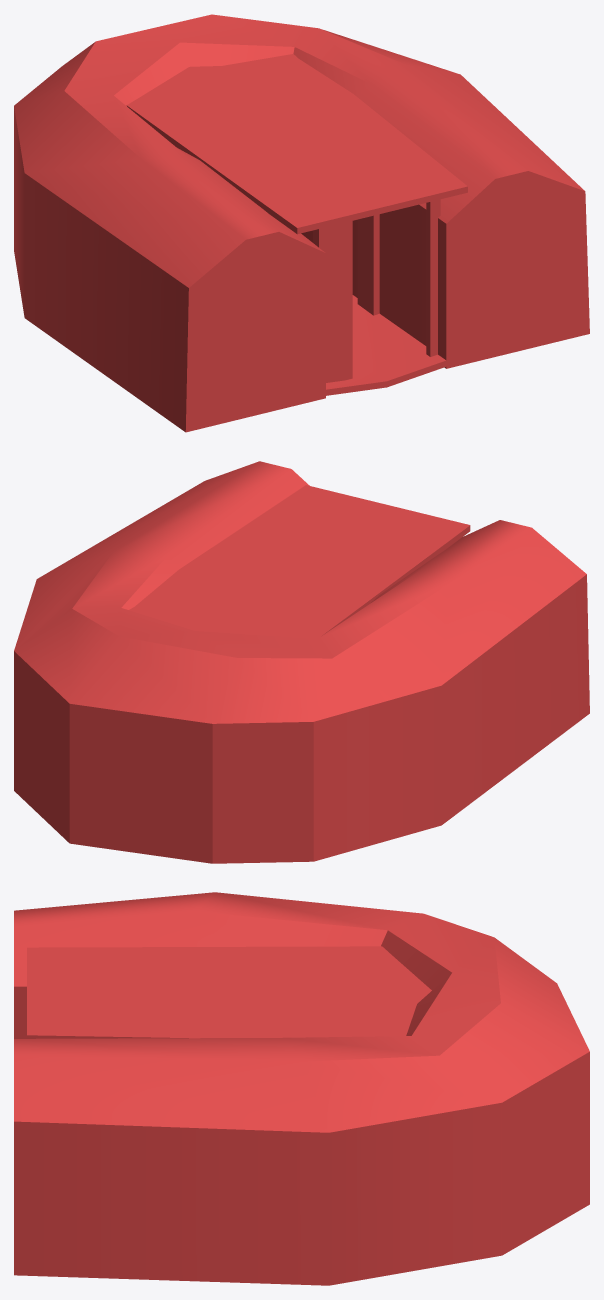
The model's file is Ground_End_Wood_Cover_COL.fbx.
The picture shows the model from 3 angles, top to bottom: view 1: azimuth 30°, elevation 25°; view 2: azimuth 150°, elevation 25°; view 3: azimuth 270°, elevation 25°; orthographic projection. The views are drawn at different scales.
Parts seen in each view (by area): view 1: Ground_End_Wood_Cover_COL; view 2: Ground_End_Wood_Cover_COL; view 3: Ground_End_Wood_Cover_COL.
Part boxes in pixels (<box>): Ground_End_Wood_Cover_COL: <box>14,14,589,432</box>; Ground_End_Wood_Cover_COL: <box>14,461,589,863</box>; Ground_End_Wood_Cover_COL: <box>14,892,589,1285</box>.
Bounding box in the file's own units: 659 × 290 × 729.
